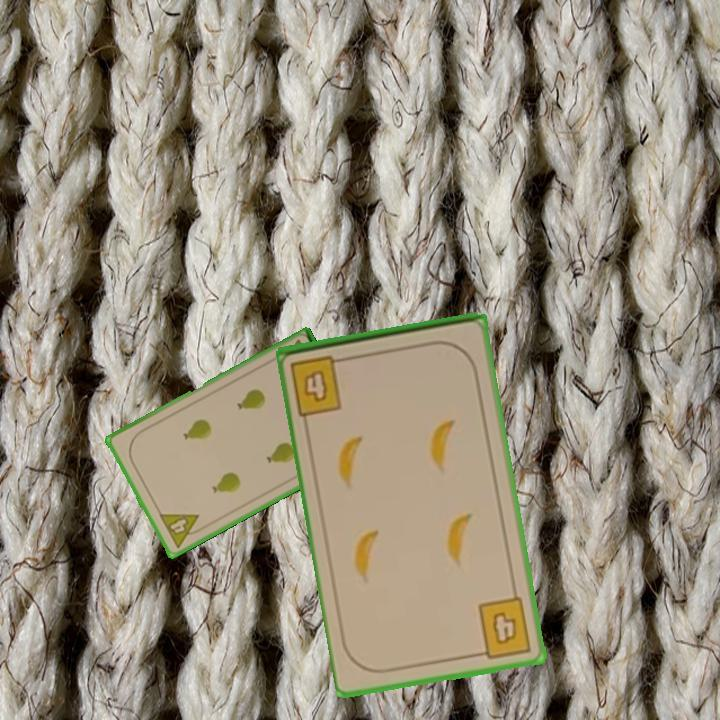4b: (287, 351, 352, 418), (472, 593, 535, 661)
4p: (155, 510, 208, 551)
